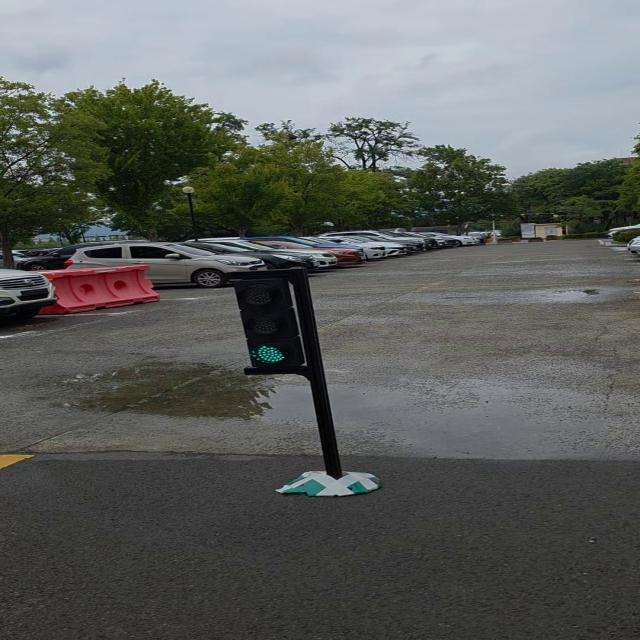green: (230, 272, 314, 373)
